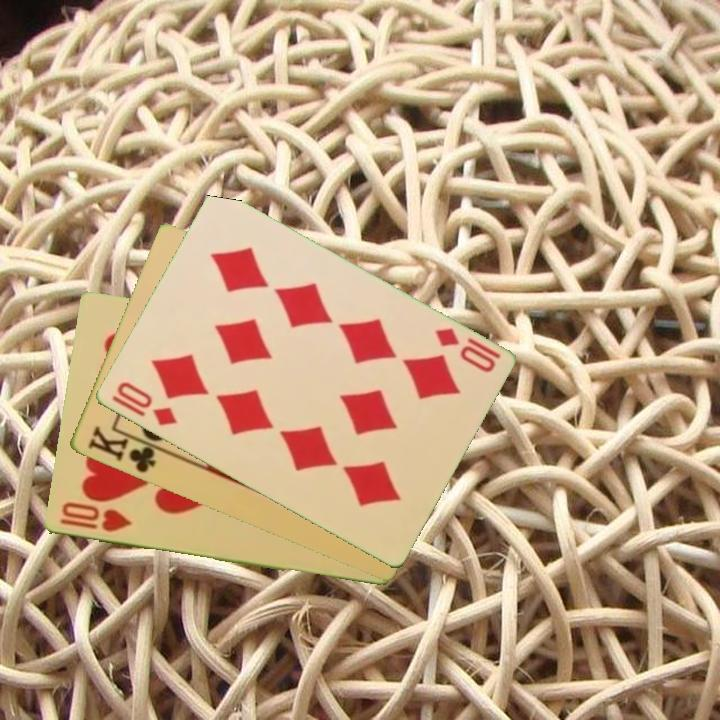10d: (430, 324, 504, 376), (112, 378, 179, 430)
10h: (56, 499, 134, 536)
Kc: (83, 422, 167, 476)
